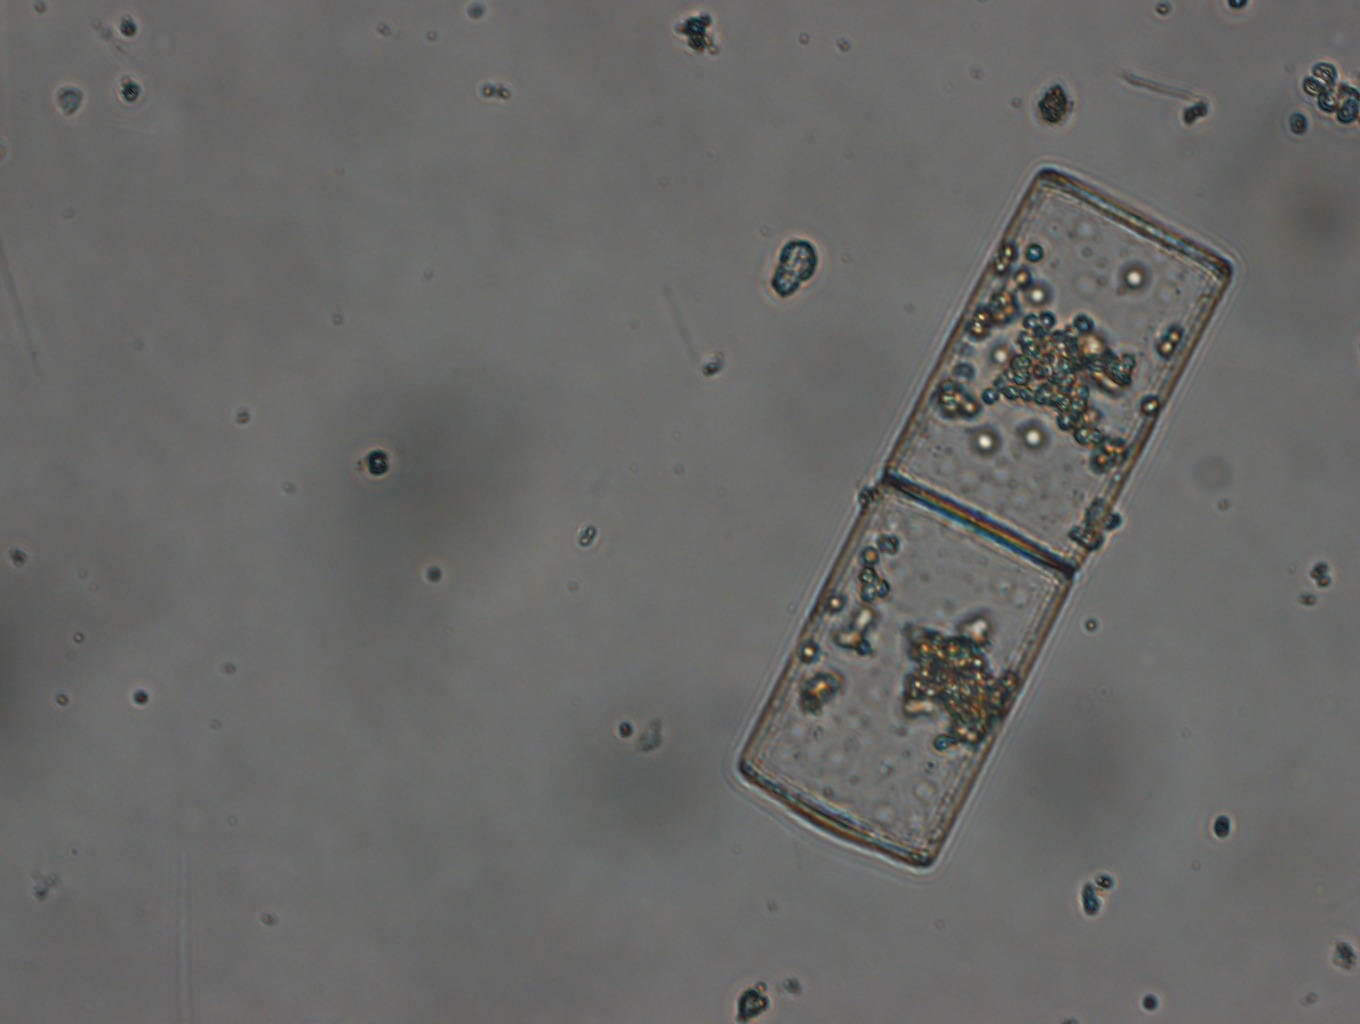guinardia flaccida: (725, 165, 1239, 872)
